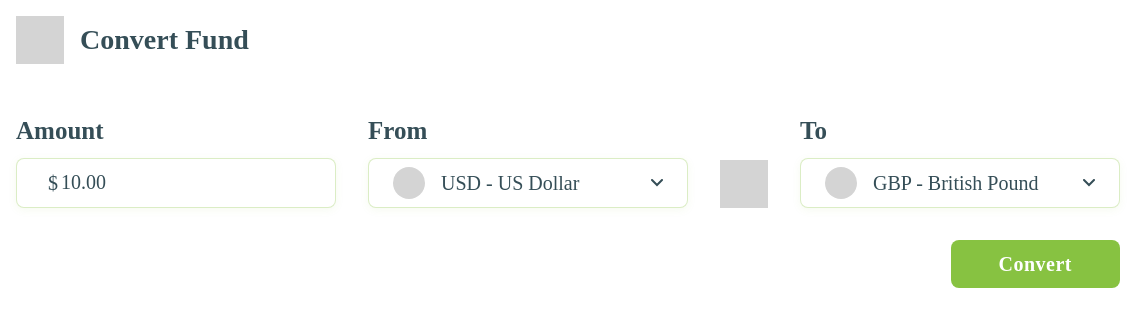
it: Converter Component › Currency Selection › should automatically change to currency when from currency is changed to same value
This screenshot has width=1137, height=327.
expect the text "USD - US Dollar" is shown: met, box [441, 172, 579, 194]
# Click From dropdown and change to GBP
Click the button named "from" at [528, 182], box [368, 158, 688, 208]
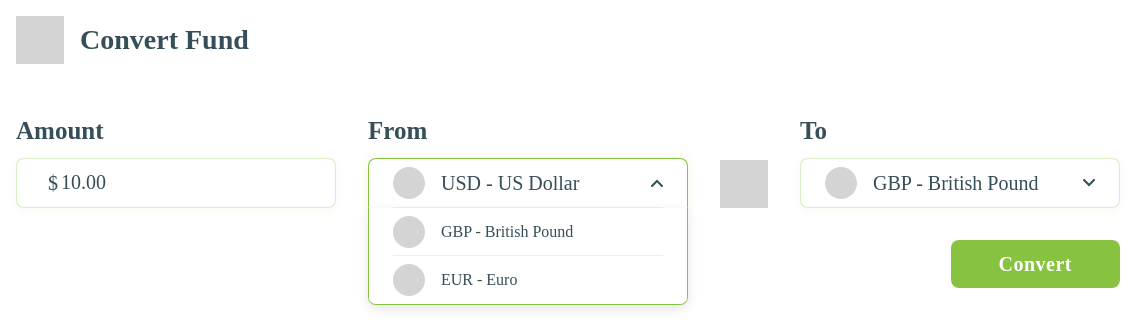
expect the text "GBP - British Pound" below "From" is shown: met, box [441, 222, 573, 240]
Click the button "GBP - British Pound" below "From" at [528, 232], box [369, 208, 687, 256]
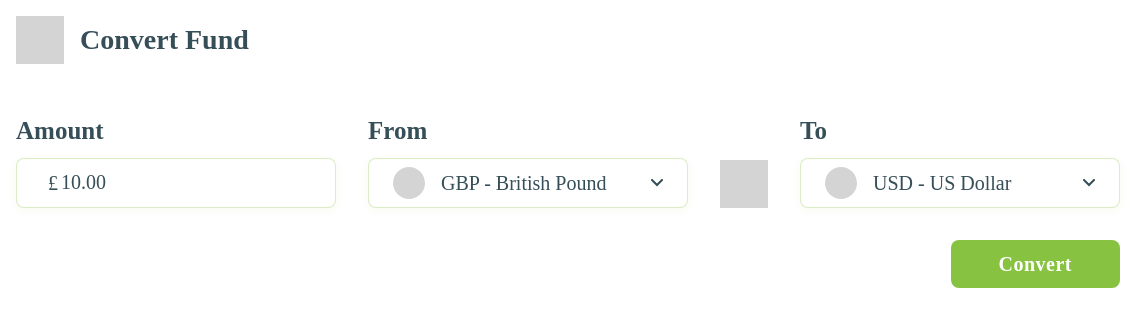
expect the button no longer shows "USD - US Dollar": met
